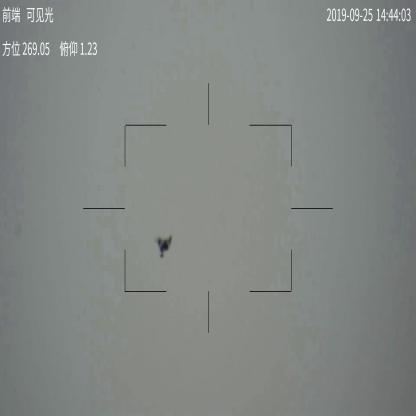uav: (154, 233, 176, 260)
